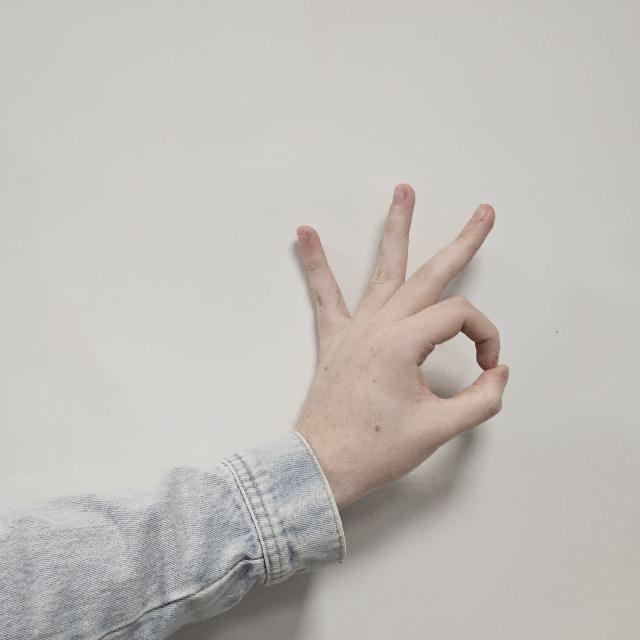Bolinha: (292, 182, 530, 488)
